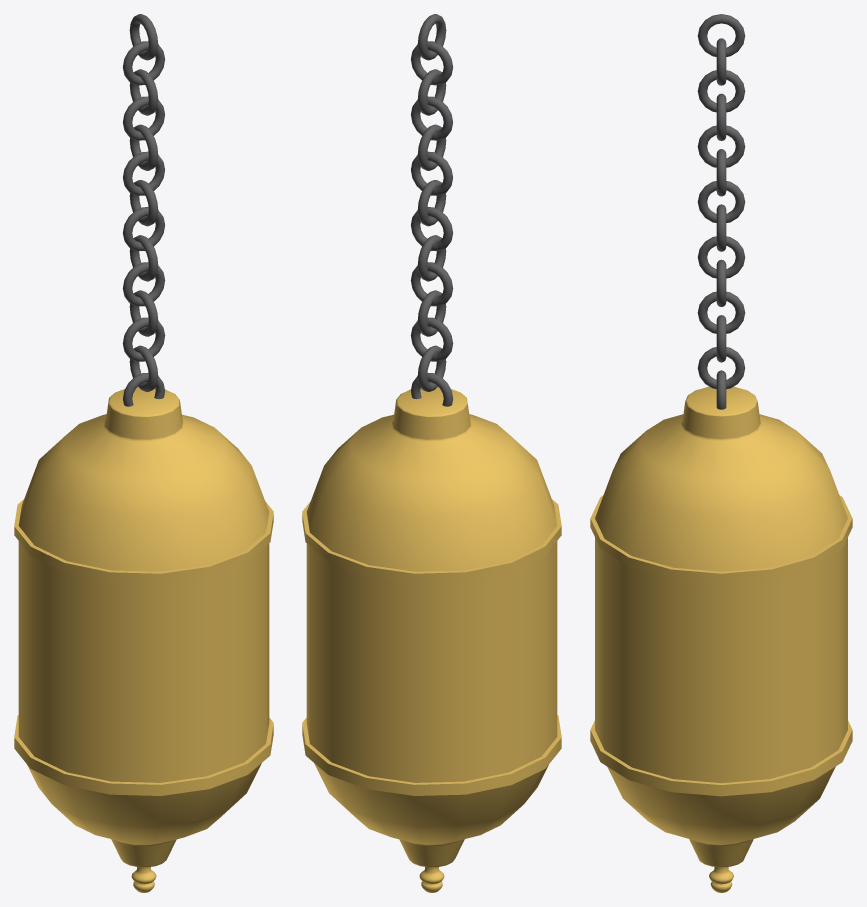
File: LampPlafond_01.fbx
3 renders of one model, left to right at view 1: azimuth 30°, elevation 25°; view 2: azimuth 150°, elevation 25°; view 3: azimuth 270°, elevation 25°, orthographic.
Visible parts, largest first — view 1: lampe volante 01; view 2: lampe volante 01; view 3: lampe volante 01.
Part boxes in pixels (<box>): lampe volante 01: <box>14,14,273,892</box>; lampe volante 01: <box>302,14,561,892</box>; lampe volante 01: <box>590,14,852,892</box>.
Size of the model in its own units: 0.3391 by 1.25 by 0.3391.
